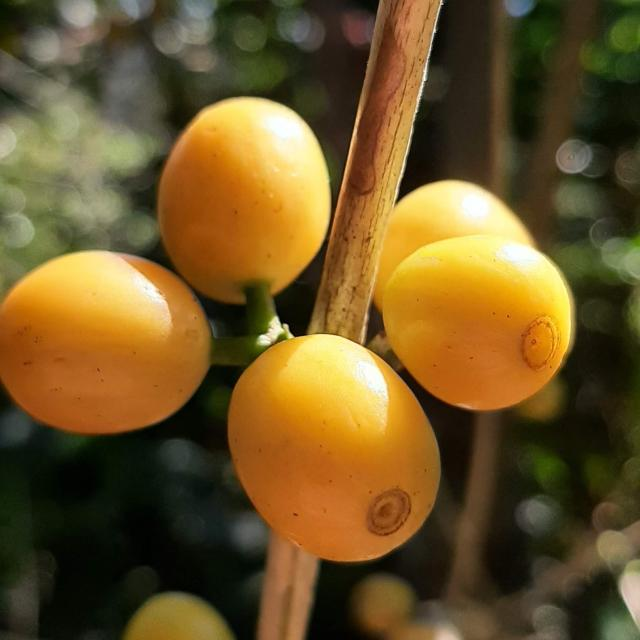Ripe: (228, 334, 441, 563), (0, 251, 212, 435), (158, 97, 331, 304), (383, 235, 575, 411), (374, 179, 536, 311), (122, 593, 235, 640)
